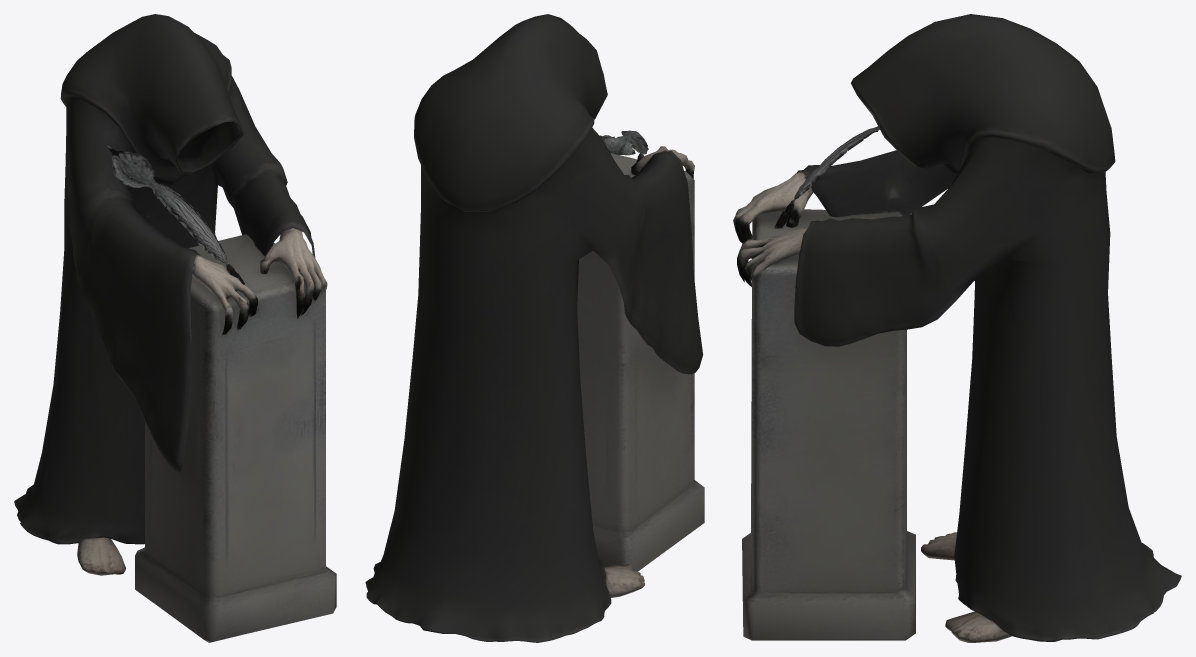
The model's file is selected.glb.
3 renders of one model, left to right at view 1: azimuth 30°, elevation 25°; view 2: azimuth 150°, elevation 25°; view 3: azimuth 270°, elevation 25°, orthographic. The views are drawn at different scales.
Parts seen in each view (by area): view 1: tripo_node_ab68ddc0-64fa-4a6f-acbb-58cb3c593dc6; view 2: tripo_node_ab68ddc0-64fa-4a6f-acbb-58cb3c593dc6; view 3: tripo_node_ab68ddc0-64fa-4a6f-acbb-58cb3c593dc6.
Boxes of the visible parts, x1,y1,x2,y2 form: tripo_node_ab68ddc0-64fa-4a6f-acbb-58cb3c593dc6: (14, 14, 336, 642); tripo_node_ab68ddc0-64fa-4a6f-acbb-58cb3c593dc6: (365, 14, 704, 642); tripo_node_ab68ddc0-64fa-4a6f-acbb-58cb3c593dc6: (733, 14, 1181, 642).
Bounding box in the file's own units: 0.416 × 0.998 × 0.6855.
Materials: 1 (1 with a texture image).
